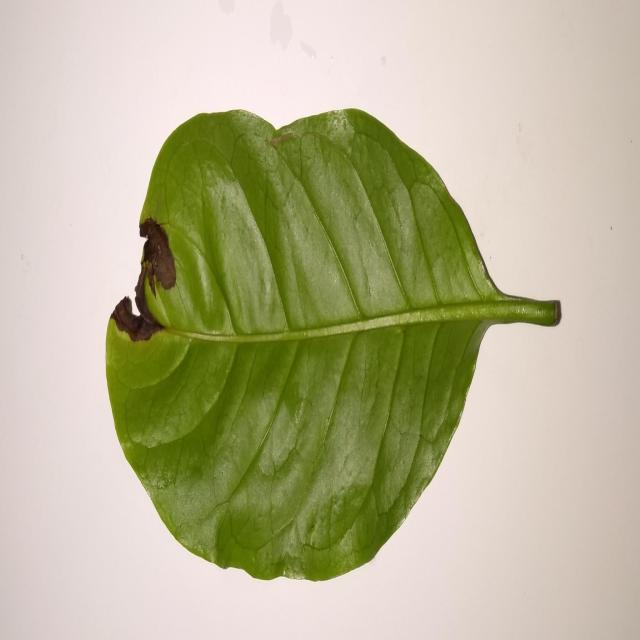Enfermedad-Antracnosis: (103, 109, 562, 584)
